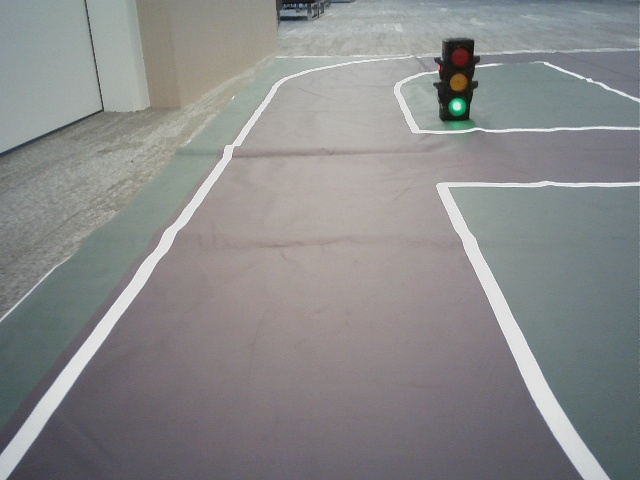green: (446, 46, 468, 116)
